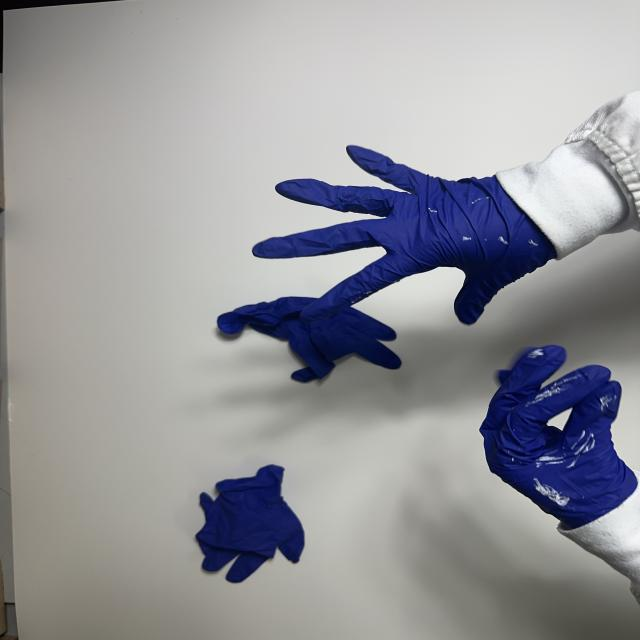gloves_contaminated: (252, 146, 556, 324), (480, 345, 638, 529)
